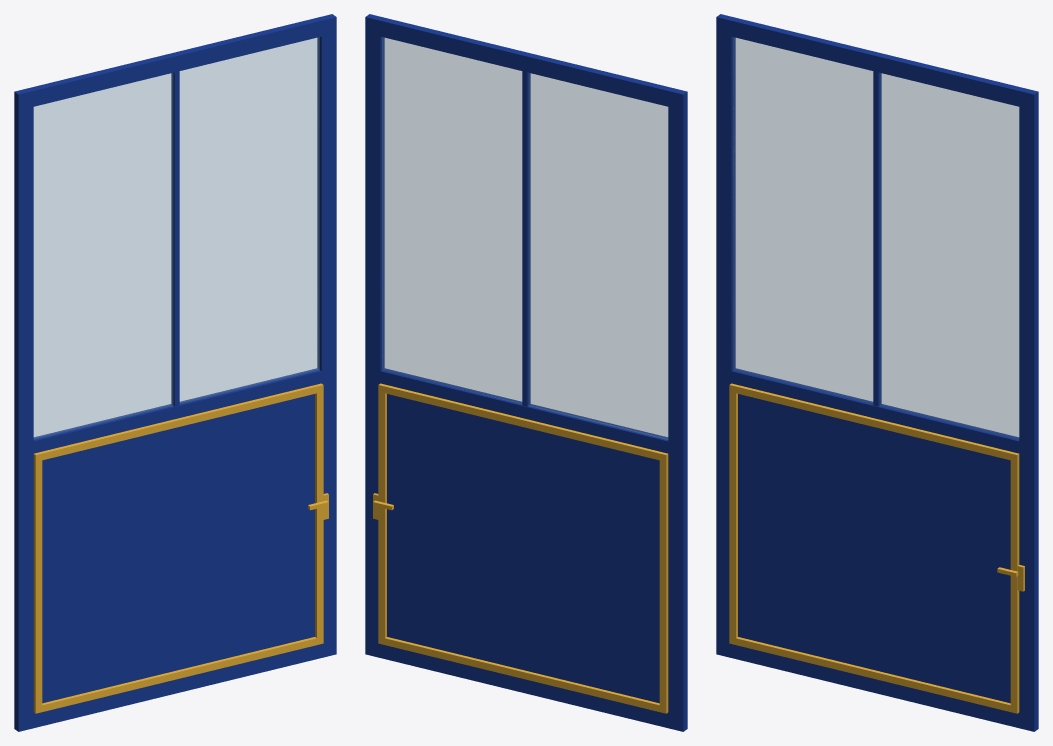
Rendered from SM_Door_academy_220x420.fbx.
3 views of the same model, side by side, from view 1: azimuth 30°, elevation 25°; view 2: azimuth 150°, elevation 25°; view 3: azimuth 330°, elevation 25° (orthographic).
Visible parts, largest first — view 1: SM_Door_academy_220x420; view 2: SM_Door_academy_220x420; view 3: SM_Door_academy_220x420.
Boxes of the visible parts, x1,y1,x2,y2 form: SM_Door_academy_220x420: (14, 14, 336, 731); SM_Door_academy_220x420: (365, 14, 687, 731); SM_Door_academy_220x420: (716, 14, 1038, 731).
Bounding box in the file's own units: 2.19 × 4.19 × 0.175.
